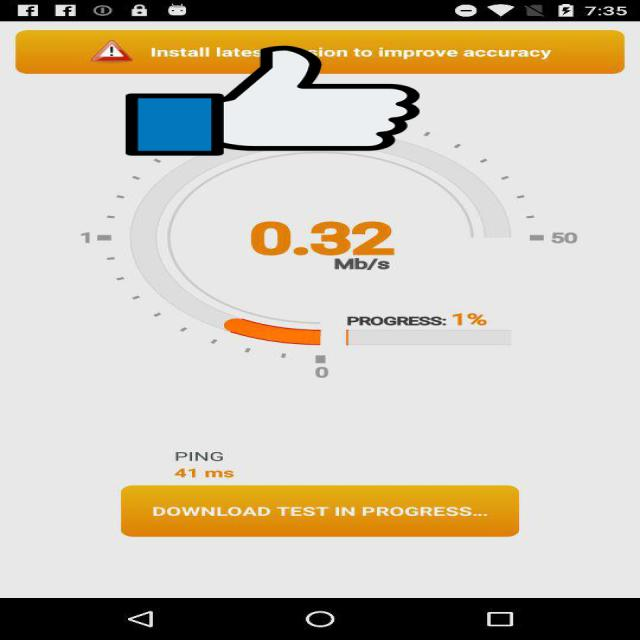privacy zuckering: (126, 43, 420, 158)
